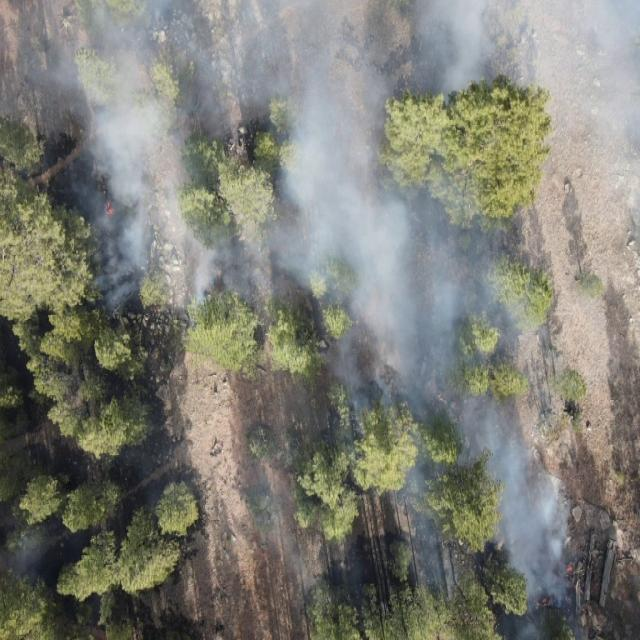fire: (526, 594, 556, 610), (100, 199, 118, 219), (560, 563, 576, 583)
smoke: (0, 0, 640, 332), (254, 333, 576, 549), (287, 549, 583, 640), (8, 527, 50, 591)
